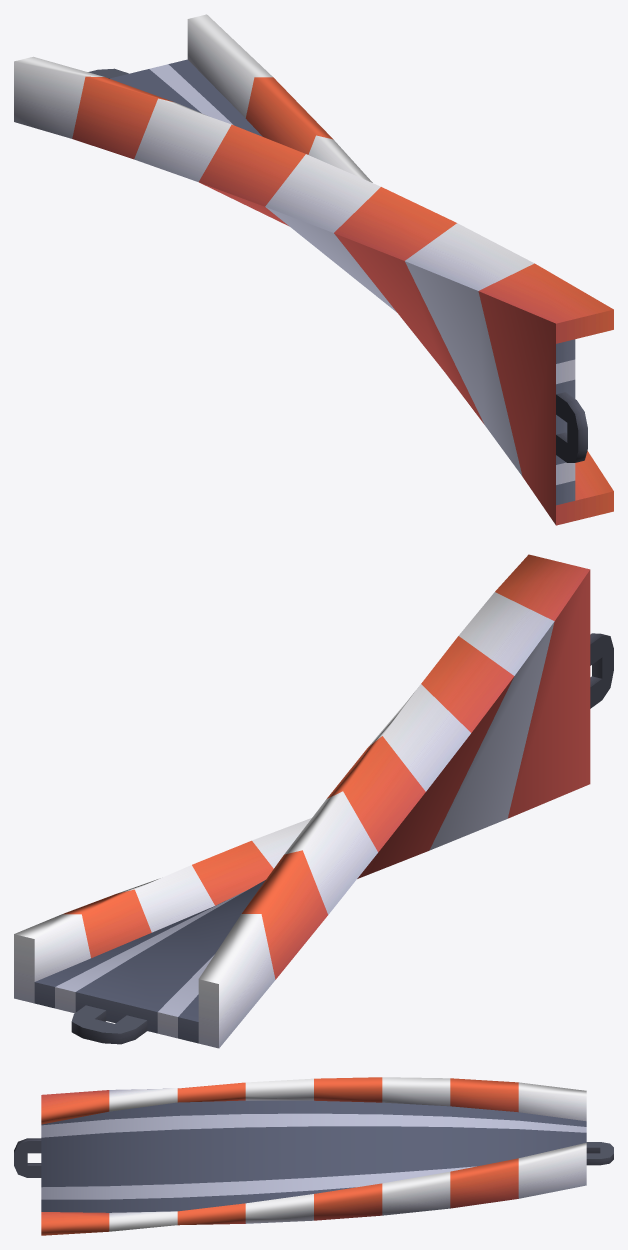
Rendered from kenney-toy-car-track-road-narrow-straight-skew-left-side.glb.
3 renders of one model, top to bottom at view 1: azimuth 30°, elevation 25°; view 2: azimuth 150°, elevation 25°; view 3: azimuth 270°, elevation 25°, orthographic. The views are drawn at different scales.
Parts seen in each view (by area): view 1: track-road-narrow-straight-skew-left-side; view 2: track-road-narrow-straight-skew-left-side; view 3: track-road-narrow-straight-skew-left-side.
Part boxes in pixels (x1,y1,x2,y2): track-road-narrow-straight-skew-left-side: (14,14,613,525); track-road-narrow-straight-skew-left-side: (14,554,613,1048); track-road-narrow-straight-skew-left-side: (14,1077,613,1235).
Size of the model in its own units: 1.08 by 1.08 by 4.4.
1 material, 1 textured.
